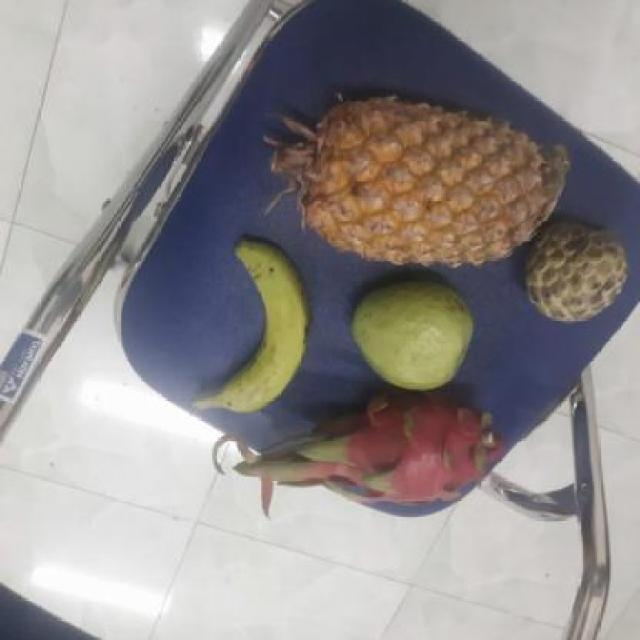banana: (202, 246, 309, 411)
dragon fruit: (313, 389, 496, 516)
guava: (348, 279, 477, 392)
pineapple: (277, 98, 555, 264)
sugar apple: (514, 221, 628, 322)
